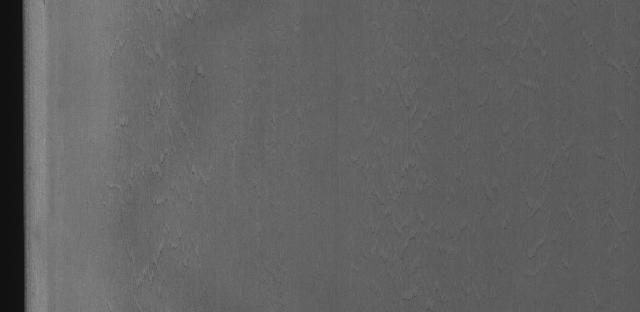silk_spot: (103, 7, 224, 262)
